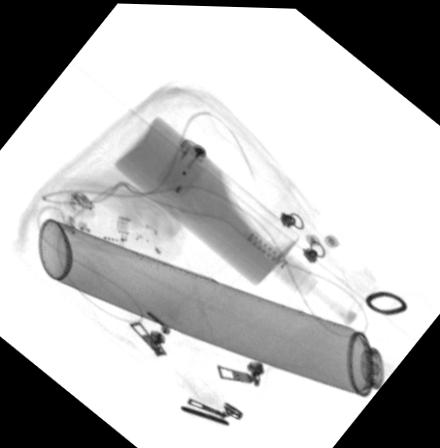Lighter: (152, 136, 217, 203)
Sprayer: (37, 216, 409, 396)
